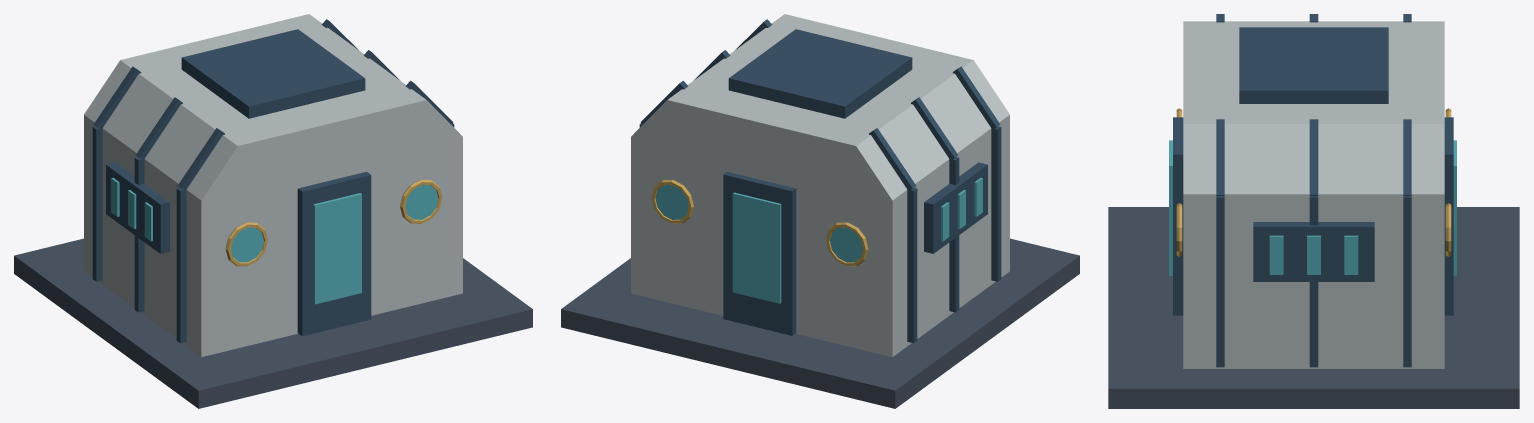
The model's file is SpaceStation_Habitat_Standard.glb.
The picture shows the model from 3 angles, left to right: view 1: azimuth 30°, elevation 25°; view 2: azimuth 150°, elevation 25°; view 3: azimuth 270°, elevation 25°; orthographic projection. The views are drawn at different scales.
Visible parts, largest first — view 1: SpaceStation_Habitat_Standard; view 2: SpaceStation_Habitat_Standard; view 3: SpaceStation_Habitat_Standard.
Boxes of the visible parts, left/top/right/bottom form: SpaceStation_Habitat_Standard: left=14, top=14, right=532, bottom=408; SpaceStation_Habitat_Standard: left=561, top=14, right=1079, bottom=408; SpaceStation_Habitat_Standard: left=1108, top=14, right=1519, bottom=408.
Bounding box in the file's own units: 4.6 × 3.06 × 4.4.
